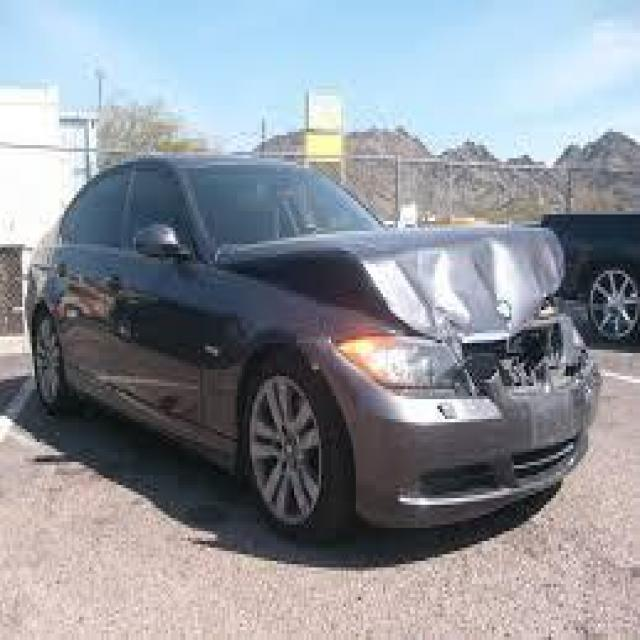damaged: (222, 231, 613, 396)
